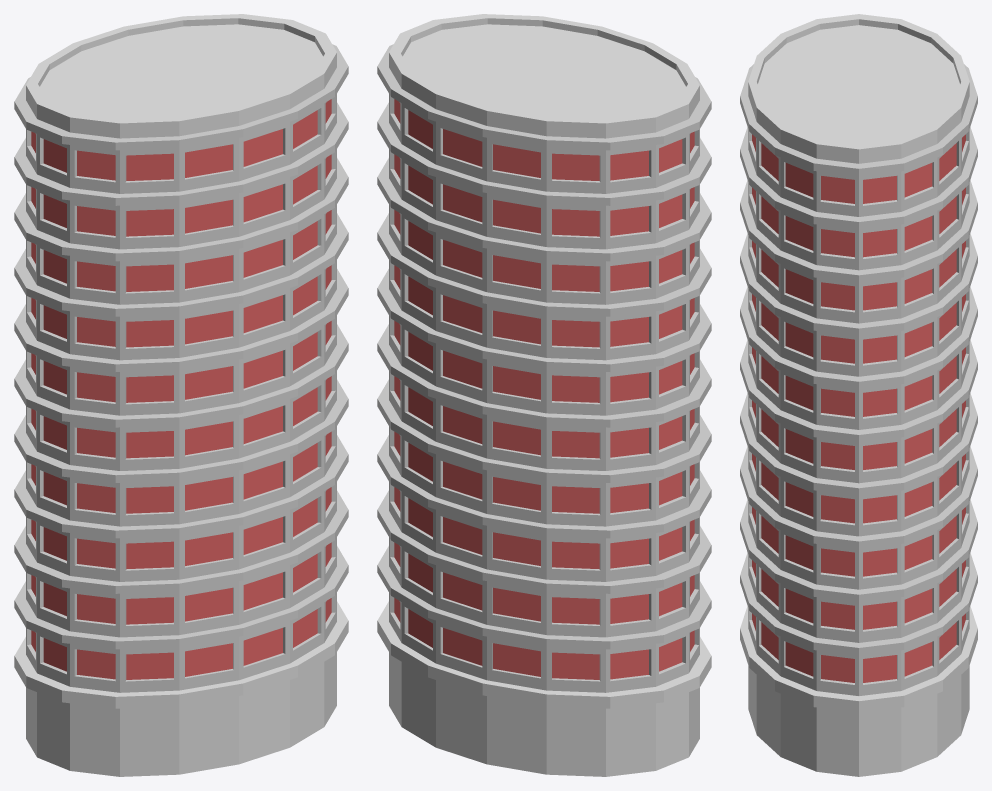
Rendered from Building02model.fbx.
The picture shows the model from 3 angles, left to right: view 1: azimuth 30°, elevation 25°; view 2: azimuth 150°, elevation 25°; view 3: azimuth 270°, elevation 25°; orthographic projection. The views are drawn at different scales.
Visible parts, largest first — view 1: Circle.001, Circle.002, Circle; view 2: Circle.001, Circle.002, Circle; view 3: Circle.001, Circle.002, Circle.
Part boxes in pixels (x1=…): Circle.001: x1=14, y1=44, x2=348, y2=692; Circle.002: x1=26, y1=14, x2=336, y2=138; Circle: x1=14, y1=601, x2=348, y2=776; Circle.001: x1=377, y1=44, x2=711, y2=692; Circle.002: x1=389, y1=14, x2=699, y2=138; Circle: x1=377, y1=601, x2=711, y2=776; Circle.001: x1=740, y1=64, x2=977, y2=695; Circle.002: x1=748, y1=14, x2=969, y2=163; Circle: x1=740, y1=606, x2=977, y2=776.
Bounding box in the file's own units: 1074 × 2161 × 742.
